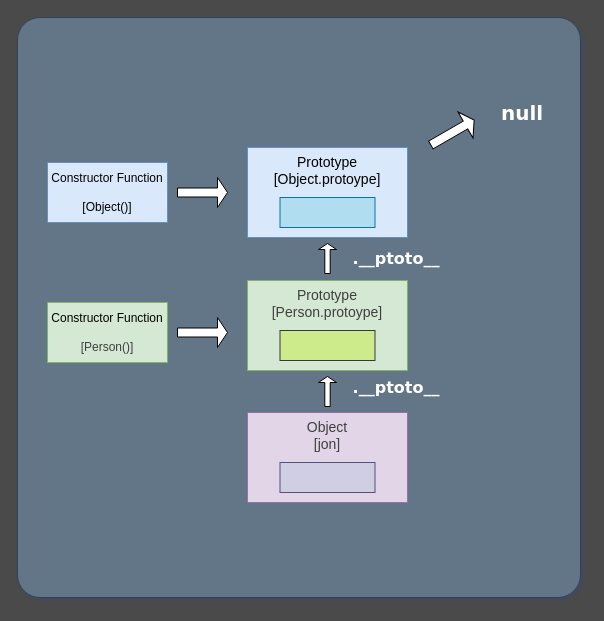
This 604x621 diagram has some shape labels left out. Here are the shapes that lost their labels. From the top down, the centre of each, then its label:
pixel 327 212: __proto__: null
pixel 327 345: __proto__: Object.prototype
pixel 327 477: __proto__: Person.prototype
